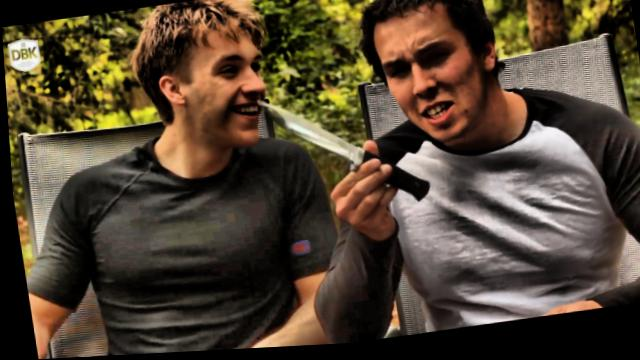knife: (247, 75, 433, 228)
